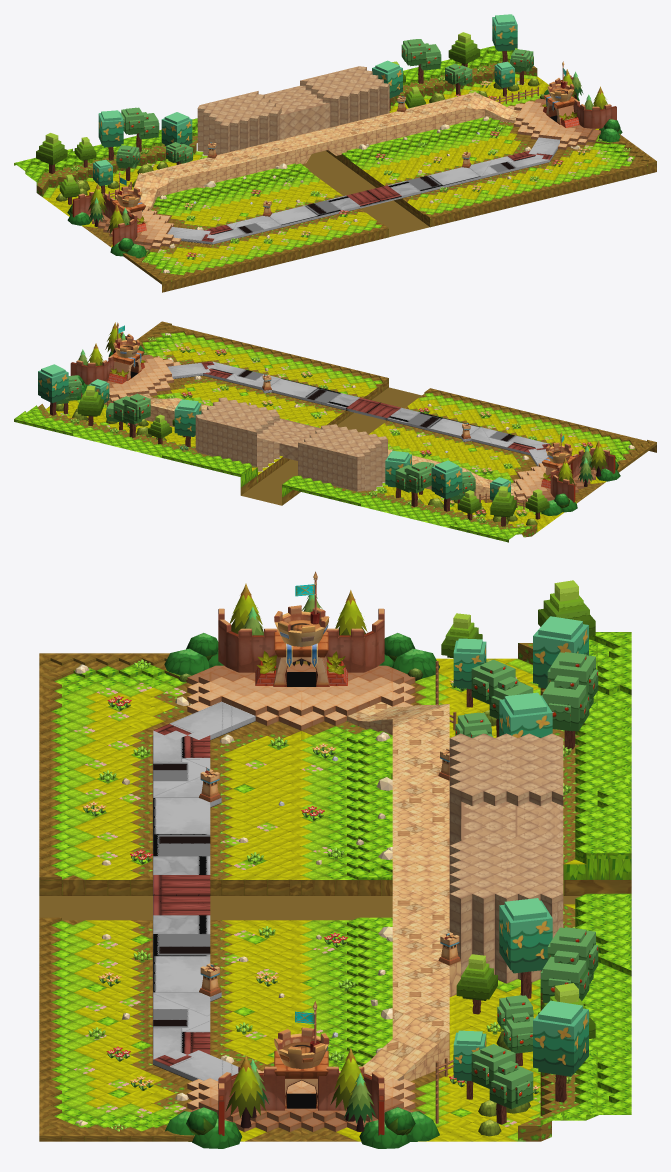
Rendered from All.fbx.
3 renders of one model, top to bottom at view 1: azimuth 30°, elevation 25°; view 2: azimuth 150°, elevation 25°; view 3: azimuth 270°, elevation 25°, orthographic. The views are drawn at different scales.
Parts seen in each view (by area): view 1: Object002, Bridge2, Bridge, WaterFullStoneL, WaterFullStoneR, waterfull, CastleR, CastleL, Tree24, Tree9, Tree14 (×2), Tree12 (+9 smaller); view 2: Object002, Bridge, WaterFullStoneL, WaterFullStoneR, CastleR, CastleL, Bridge2, waterfull, Tree12, Tree19, Tree24, Tree9 (+10 smaller); view 3: Object002, Bridge2, Bridge, WaterFullStoneR, CastleL, WaterFullStoneL, CastleR, Tree19, Tree18, waterfull, Tree9, Tree24 (+17 smaller).
Boxes of the visible parts, left/top/right/bottom form: Object002: left=14, top=46, right=656, bottom=292; Bridge2: left=133, top=92, right=519, bottom=210; Bridge: left=167, top=137, right=559, bottom=244; WaterFullStoneL: left=197, top=91, right=281, bottom=155; WaterFullStoneR: left=300, top=66, right=389, bottom=127; waterfull: left=264, top=86, right=513, bottom=139; CastleR: left=543, top=75, right=616, bottom=128; CastleL: left=72, top=186, right=146, bottom=246; Tree24: left=401, top=39, right=441, bottom=83; Tree9: left=121, top=107, right=159, bottom=152; Tree14 (×2): left=93, top=142, right=192, bottom=194; Tree12: left=98, top=110, right=123, bottom=160; Object002: left=14, top=321, right=656, bottom=542; Bridge: left=167, top=361, right=551, bottom=466; WaterFullStoneL: left=298, top=424, right=387, bottom=491; WaterFullStoneR: left=195, top=397, right=279, bottom=471; CastleR: left=70, top=332, right=144, bottom=384; CastleL: left=541, top=442, right=615, bottom=502; Bridge2: left=128, top=393, right=520, bottom=498; waterfull: left=257, top=418, right=512, bottom=493; Tree12: left=431, top=460, right=462, bottom=511; Tree19: left=38, top=364, right=68, bottom=415; Tree24: left=113, top=393, right=150, bottom=437; Tree9: left=395, top=462, right=431, bottom=506; Object002: left=39, top=632, right=631, bottom=1141; Bridge2: left=347, top=701, right=460, bottom=1081; Bridge: left=153, top=701, right=255, bottom=1081; WaterFullStoneR: left=449, top=836, right=563, bottom=983; CastleL: left=218, top=605, right=384, bottom=686; WaterFullStoneL: left=449, top=733, right=563, bottom=845; CastleR: left=218, top=1027, right=384, bottom=1135; Tree19: left=533, top=1000, right=588, bottom=1102; Tree18: left=499, top=898, right=552, bottom=998; waterfull: left=397, top=801, right=563, bottom=1080; Tree9: left=542, top=652, right=598, bottom=749; Tree24: left=540, top=927, right=598, bottom=1002.
Bounding box in the file's own units: 8164 × 1022 × 4122.
